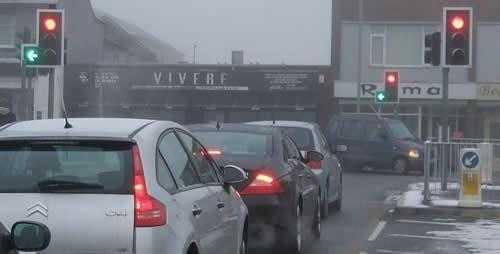green: (22, 45, 39, 65), (376, 91, 385, 103)
red: (447, 9, 470, 65), (40, 11, 61, 65), (386, 71, 398, 102)
